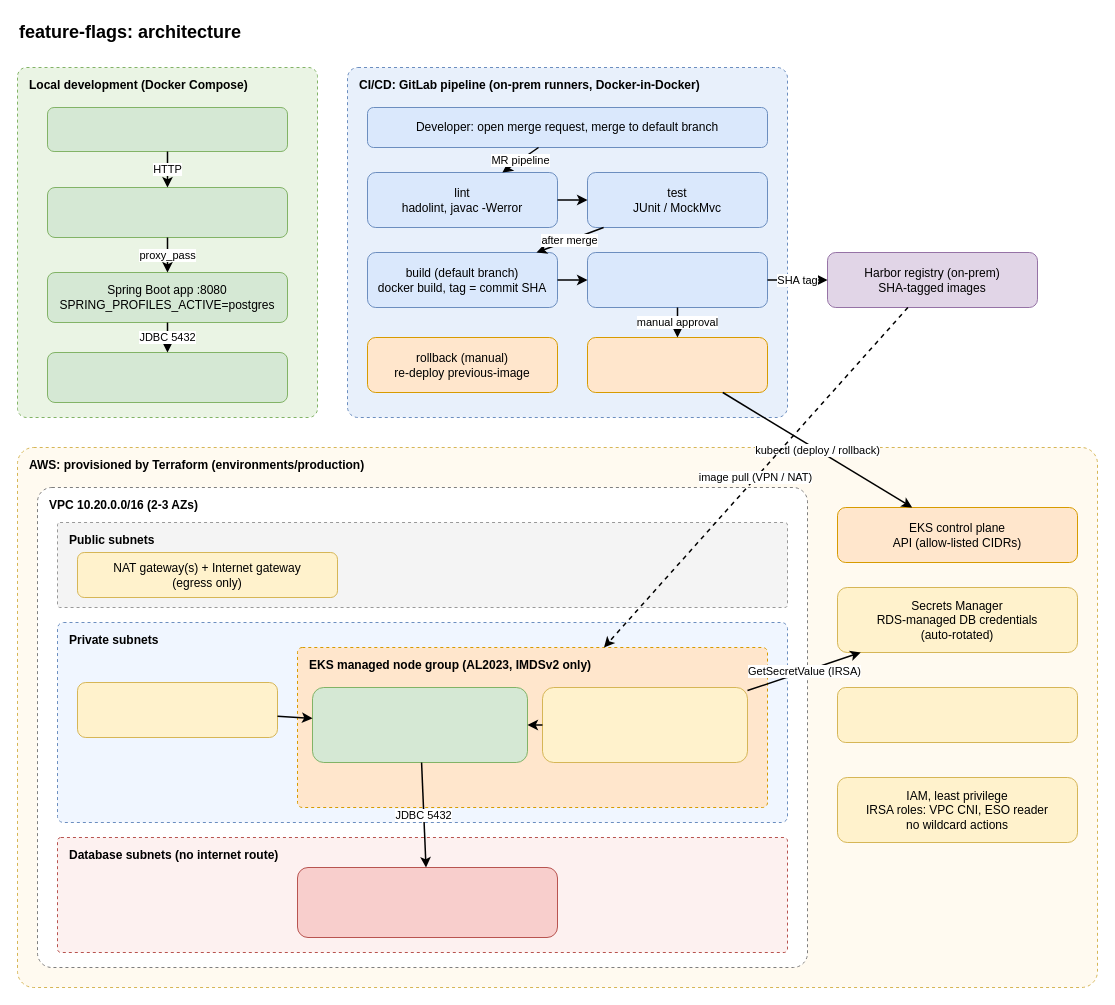
Image size: 1115x1005. Some labels were removed from this diagram. The shapes that lost their labels are listed below. From the top down, each one's centre as x and y in pixels, then its label:
At (167,129): "Developer curl / browser to :8080".
At (167,212): "nginx:stable-alpine :80 (published as :8080)".
At (677,280): "push docker push to Harbor".
At (167,377): "PostgreSQL 17 (volume pgdata) bound to 127.0.0.1:5432".
At (677,364): "deploy (manual gate) kubectl set image".
At (177,710): "Internal Network LB :80 to pods :8080".
At (420,724): "feature-flags pods x2 ns feature-flags non-root, PSS restricted".
At (645,724): "External Secrets Operator syncs DB secret into pods (IRSA, reads 1 secret)".
At (957,714): "KMS customer-managed key EKS secrets, RDS, DB secret".
At (427,902): "RDS PostgreSQL 17, Multi-AZ encrypted, TLS enforced 5432 from EKS nodes only".
